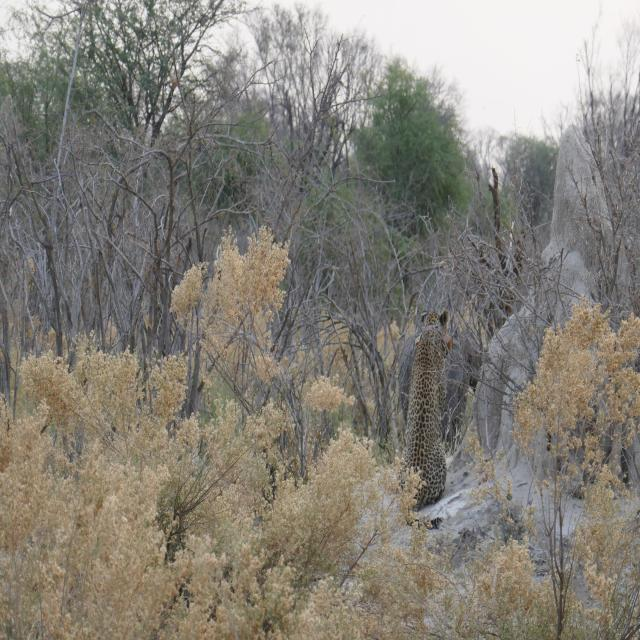Leopard: (398, 306, 449, 542)
